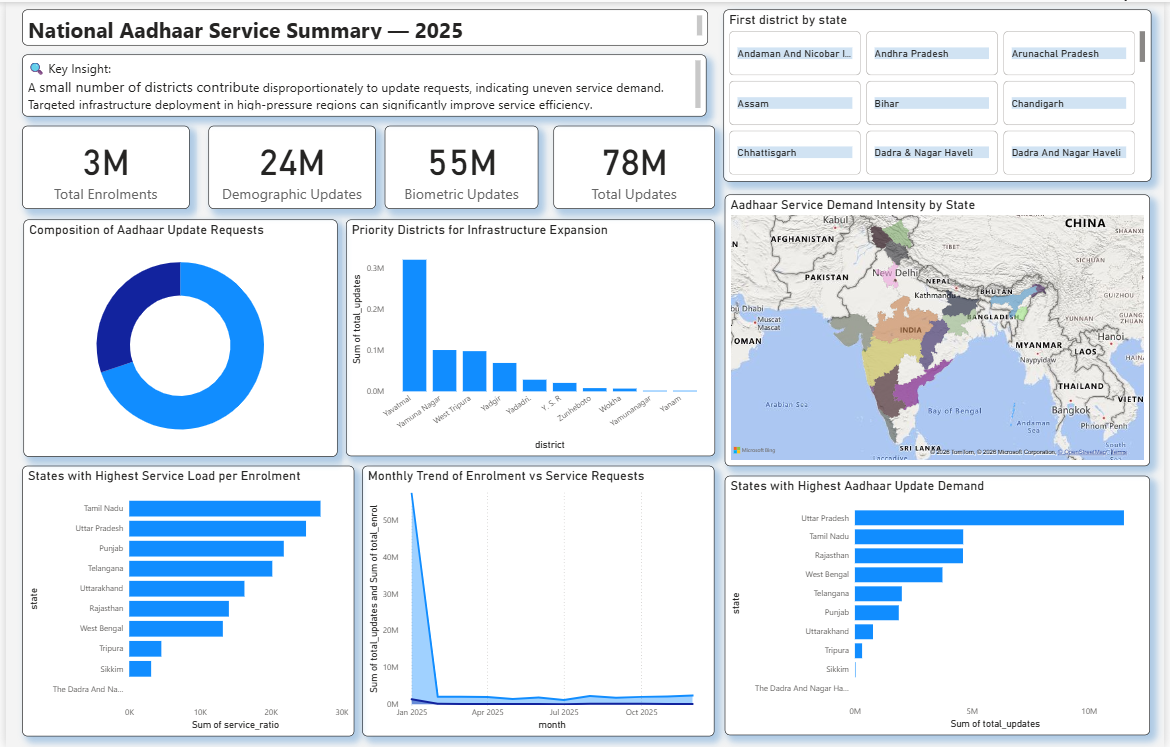

The page's visual inventory and layout, read from the dashboard file:
{"tool":"powerbi","page":{"name":"Page 3","canvas":[1750,1127],"ordinal":0},"visuals":[{"type":"areaChart","title":"Monthly Trend of Enrolment vs Service Requests","fields":{"Category":["final_aadhaar_dashboard_data.month"],"Y":["Sum(final_aadhaar_dashboard_data.total_updates)","Sum(final_aadhaar_dashboard_data.total_enrol)"]},"box":[539,700,532.2,408.5],"z":0},{"type":"clusteredBarChart","title":"States with Highest Aadhaar Update Demand","fields":{"Category":["final_aadhaar_dashboard_data.state"],"Y":["Sum(final_aadhaar_dashboard_data.total_updates)"]},"box":[1086,716,642,392],"z":1000},{"type":"clusteredBarChart","title":"States with Highest Service Load per Enrolment","fields":{"Category":["final_aadhaar_dashboard_data.state"],"Y":["Sum(final_aadhaar_dashboard_data.service_ratio)"]},"box":[25.4,700,501.7,408.5],"z":2000},{"type":"clusteredColumnChart","title":"Priority Districts for Infrastructure Expansion","fields":{"Category":["final_aadhaar_dashboard_data.district"],"Y":["Sum(final_aadhaar_dashboard_data.total_updates)"]},"box":[513.6,328.8,557.6,357.6],"z":3000},{"type":"donutChart","title":"Composition of Aadhaar Update Requests","fields":{"Y":["Sum(final_aadhaar_dashboard_data.total_bio_updates)","Sum(final_aadhaar_dashboard_data.total_demo_updates)"]},"box":[26,328,474,358],"z":4000},{"type":"filledMap","title":"Aadhaar Service Demand Intensity by State","fields":{"Category":["final_aadhaar_dashboard_data.state"],"Series":["final_aadhaar_dashboard_data.district"]},"box":[1086,290,642,410],"z":5000},{"type":"advancedSlicerVisual","fields":{"Values":["final_aadhaar_dashboard_data.state"]},"box":[1084,12,646,260],"z":6000},{"type":"card","title":"Total Aadhaar Enrolments","fields":{"Values":["Sum(final_aadhaar_dashboard_data.total_enrol)"]},"box":[23.7,186.4,252.5,125.4],"z":7000},{"type":"card","title":"Total Demographic Updates","fields":{"Values":["Sum(final_aadhaar_dashboard_data.total_demo_updates)"]},"box":[305.1,186.4,252.5,125.4],"z":8000},{"type":"card","title":"Total Enrolments","fields":{"Values":["Sum(final_aadhaar_dashboard_data.total_bio_updates)"]},"box":[572.9,186.4,232.2,125.4],"z":9000},{"type":"card","title":"Total Updates","fields":{"Values":["Sum(final_aadhaar_dashboard_data.total_updates)"]},"box":[827.1,186.4,244.1,125.4],"z":10000},{"type":"textbox","box":[24,12,1036,54],"z":11000},{"type":"textbox","box":[25.4,79.7,1033.9,93.2],"z":12000}]}

Visuals, with their boxes in screenshot pixels (x1, y1, x2, y2), scaled from the page's 1750x1127 canvas onto the 1170x747 screenshot:
"Monthly Trend of Enrolment vs Service Requests" areaChart: {"left": 360, "top": 464, "right": 716, "bottom": 735}
"States with Highest Aadhaar Update Demand" clusteredBarChart: {"left": 726, "top": 475, "right": 1155, "bottom": 734}
"States with Highest Service Load per Enrolment" clusteredBarChart: {"left": 17, "top": 464, "right": 352, "bottom": 735}
"Priority Districts for Infrastructure Expansion" clusteredColumnChart: {"left": 343, "top": 218, "right": 716, "bottom": 455}
"Composition of Aadhaar Update Requests" donutChart: {"left": 17, "top": 217, "right": 334, "bottom": 455}
"Aadhaar Service Demand Intensity by State" filledMap: {"left": 726, "top": 192, "right": 1155, "bottom": 464}
advancedSlicerVisual - final_aadhaar_dashboard_data.state: {"left": 725, "top": 8, "right": 1157, "bottom": 180}
"Total Aadhaar Enrolments" card: {"left": 16, "top": 124, "right": 185, "bottom": 207}
"Total Demographic Updates" card: {"left": 204, "top": 124, "right": 373, "bottom": 207}
"Total Enrolments" card: {"left": 383, "top": 124, "right": 538, "bottom": 207}
"Total Updates" card: {"left": 553, "top": 124, "right": 716, "bottom": 207}
textbox: {"left": 16, "top": 8, "right": 709, "bottom": 44}
textbox: {"left": 17, "top": 53, "right": 708, "bottom": 115}
